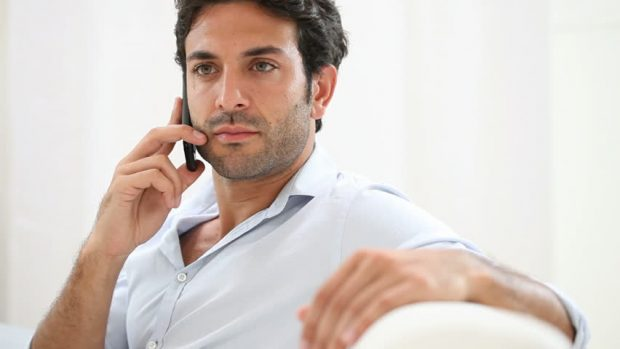phone: (156, 76, 211, 163)
talk: (94, 38, 301, 258)
